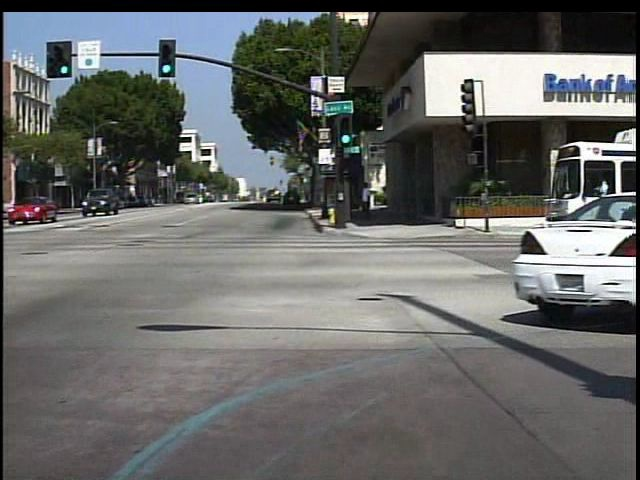person: (359, 181, 379, 226)
